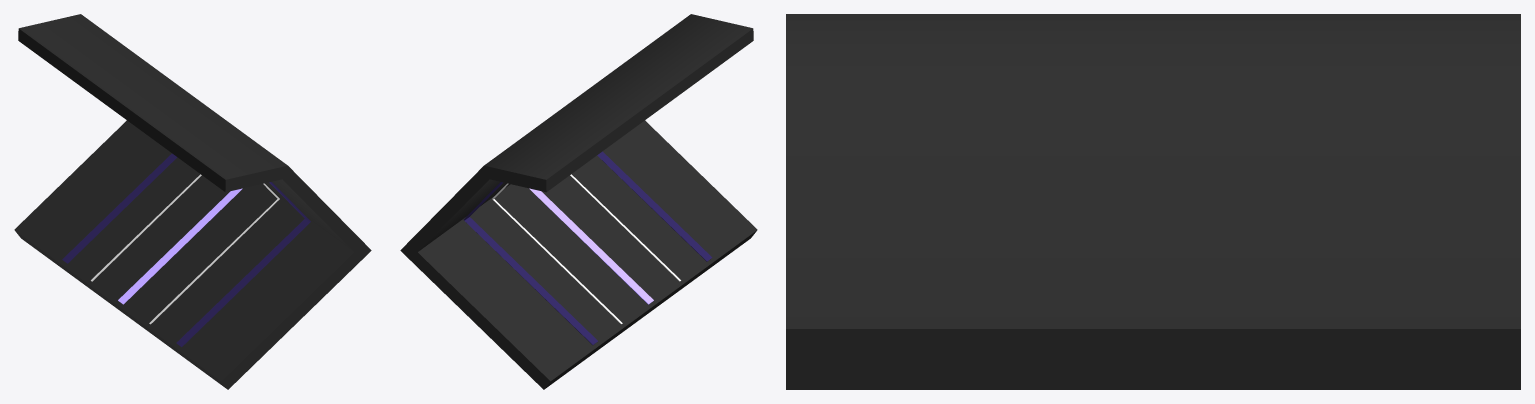
Rendered from Tunnel.fbx.
The picture shows the model from 3 angles, left to right: view 1: azimuth 30°, elevation 25°; view 2: azimuth 150°, elevation 25°; view 3: azimuth 270°, elevation 25°; orthographic projection. The views are drawn at different scales.
Parts seen in each view (by area): view 1: Sweep, Cap_2_3, accent_2, accent_2_2, accent_1_2, Cap_1_3, accent_1, accent; view 2: Sweep, Cap_2_3, accent_1_2, accent_2_2, accent_2, Cap_1_3, accent, accent_1; view 3: Sweep.
Part boxes in pixels (x1=…): Sweep: x1=14, y1=14, x2=371, y2=389; Cap_2_3: x1=18, y1=29, x2=225, y2=191; accent_2: x1=176, y1=182, x2=310, y2=346; accent_2_2: x1=118, y1=188, x2=242, y2=304; accent_1_2: x1=62, y1=153, x2=177, y2=263; Cap_1_3: x1=15, y1=230, x2=227, y2=389; accent_1: x1=149, y1=183, x2=279, y2=324; accent: x1=91, y1=174, x2=201, y2=281; Sweep: x1=400, y1=14, x2=757, y2=389; Cap_2_3: x1=546, y1=29, x2=753, y2=191; accent_1_2: x1=463, y1=182, x2=597, y2=345; accent_2_2: x1=529, y1=188, x2=653, y2=304; accent_2: x1=597, y1=151, x2=712, y2=261; Cap_1_3: x1=544, y1=230, x2=756, y2=389; accent: x1=492, y1=183, x2=622, y2=324; accent_1: x1=570, y1=174, x2=680, y2=281; Sweep: x1=786, y1=14, x2=1520, y2=389.
Bounding box in the file's own units: 1289 × 1725 × 3073.
